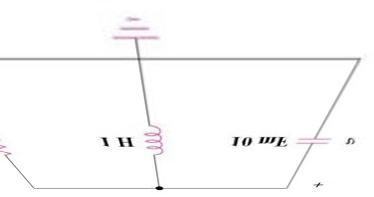inductor: (135, 112, 172, 168)
